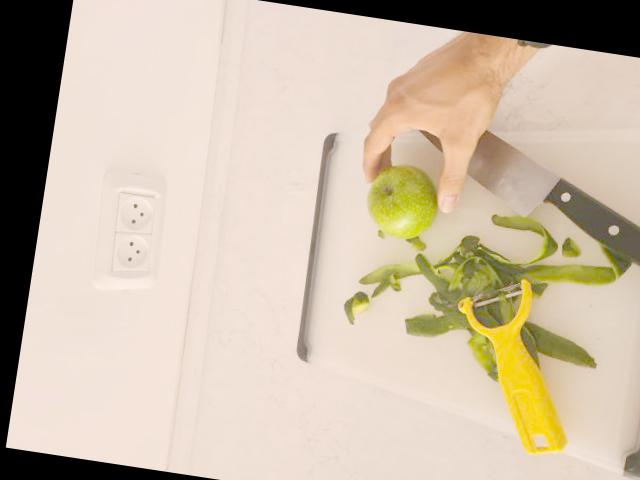apple: (359, 160, 445, 246)
